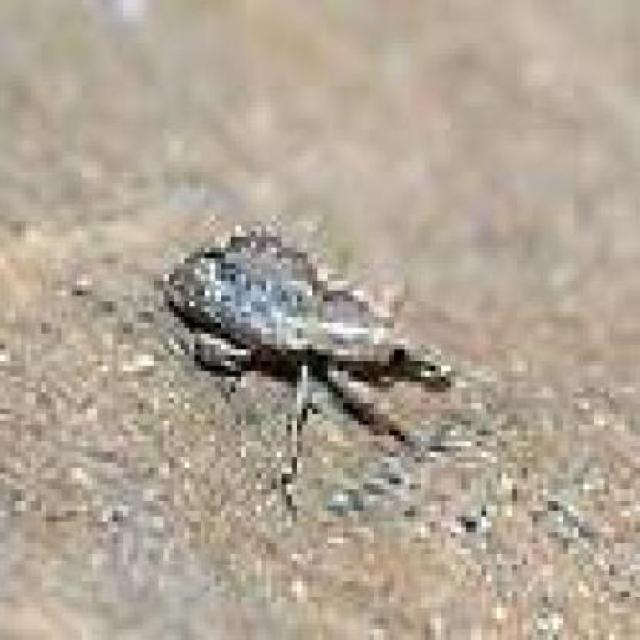rice-bug: (163, 225, 459, 453)
